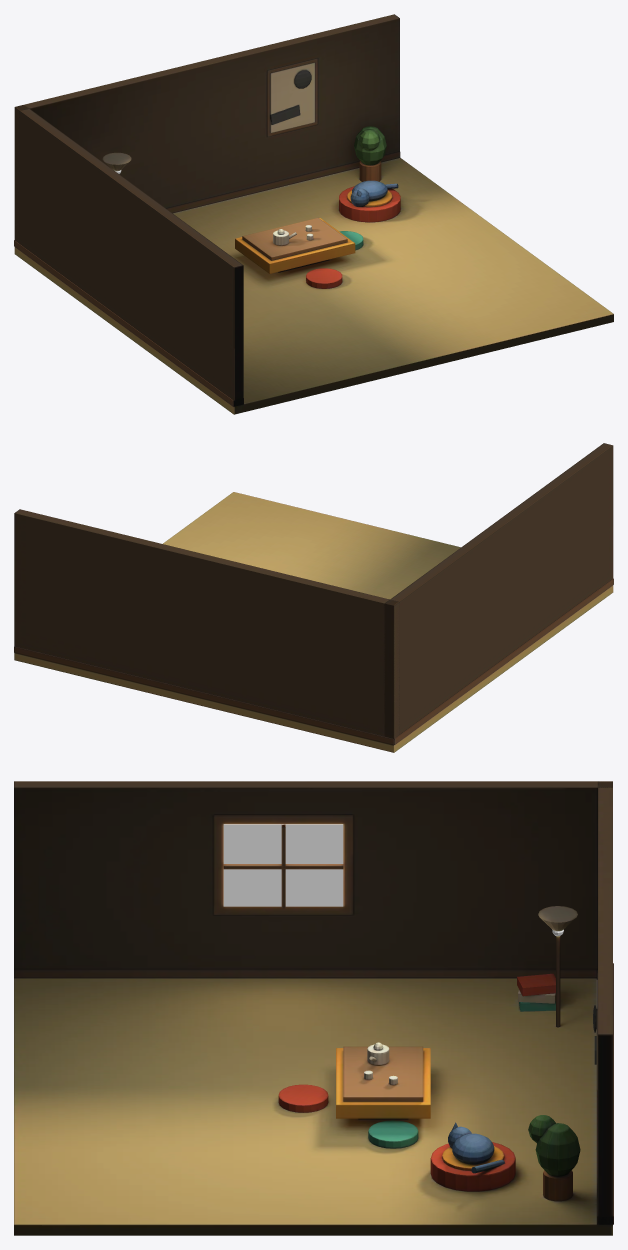
The model's file is life.glb.
The picture shows the model from 3 angles, top to bottom: view 1: azimuth 30°, elevation 25°; view 2: azimuth 150°, elevation 25°; view 3: azimuth 270°, elevation 25°; orthographic projection. The views are drawn at different scales.
Parts seen in each view (by area): view 1: life; view 2: life; view 3: life.
Part boxes in pixels (<box>): life: <box>14,14,613,414</box>; life: <box>14,443,613,752</box>; life: <box>14,781,613,1235</box>.
Bounding box in the file's own units: 12.02 × 4.44 × 12.02.
1 material, 1 textured.
